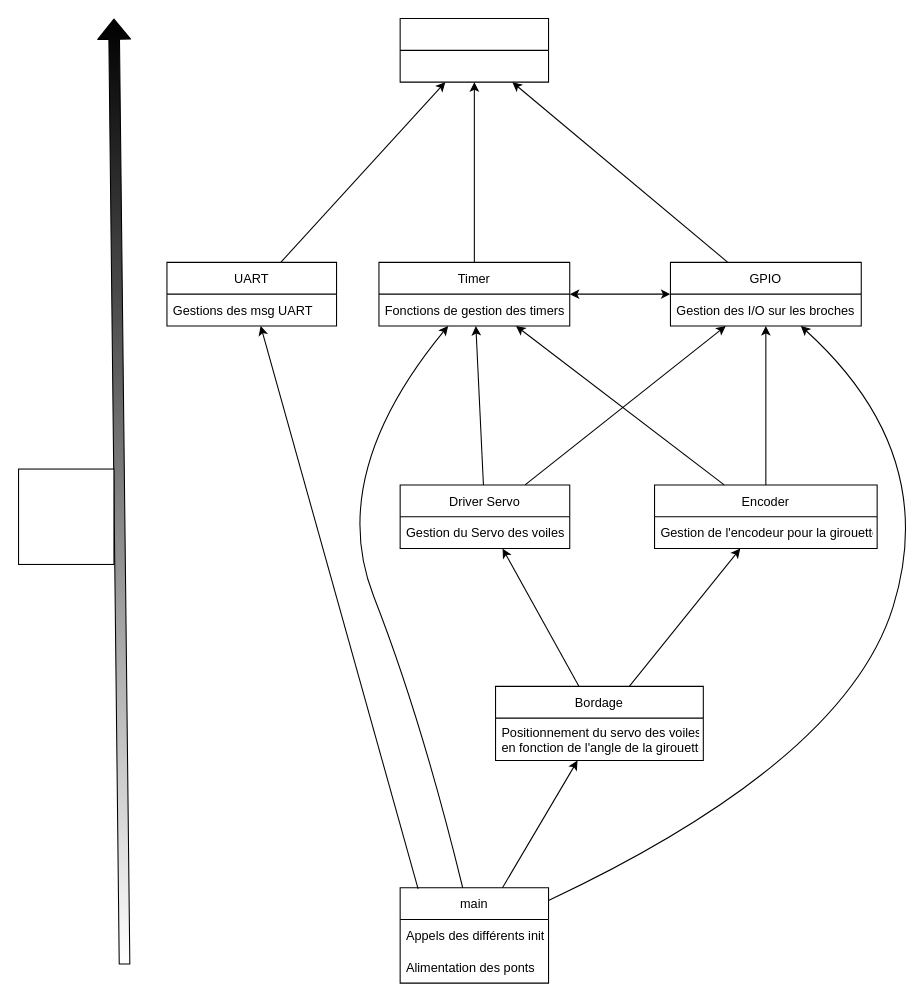
Image size: 924x1002. Some labels were removed from this diagram. The shapes that lost their labels are listed below. From the top down, each one's centre as x and y in pixels, then its label:
the point at 474,49: Stm32f10x
the point at 65,516: Includes
